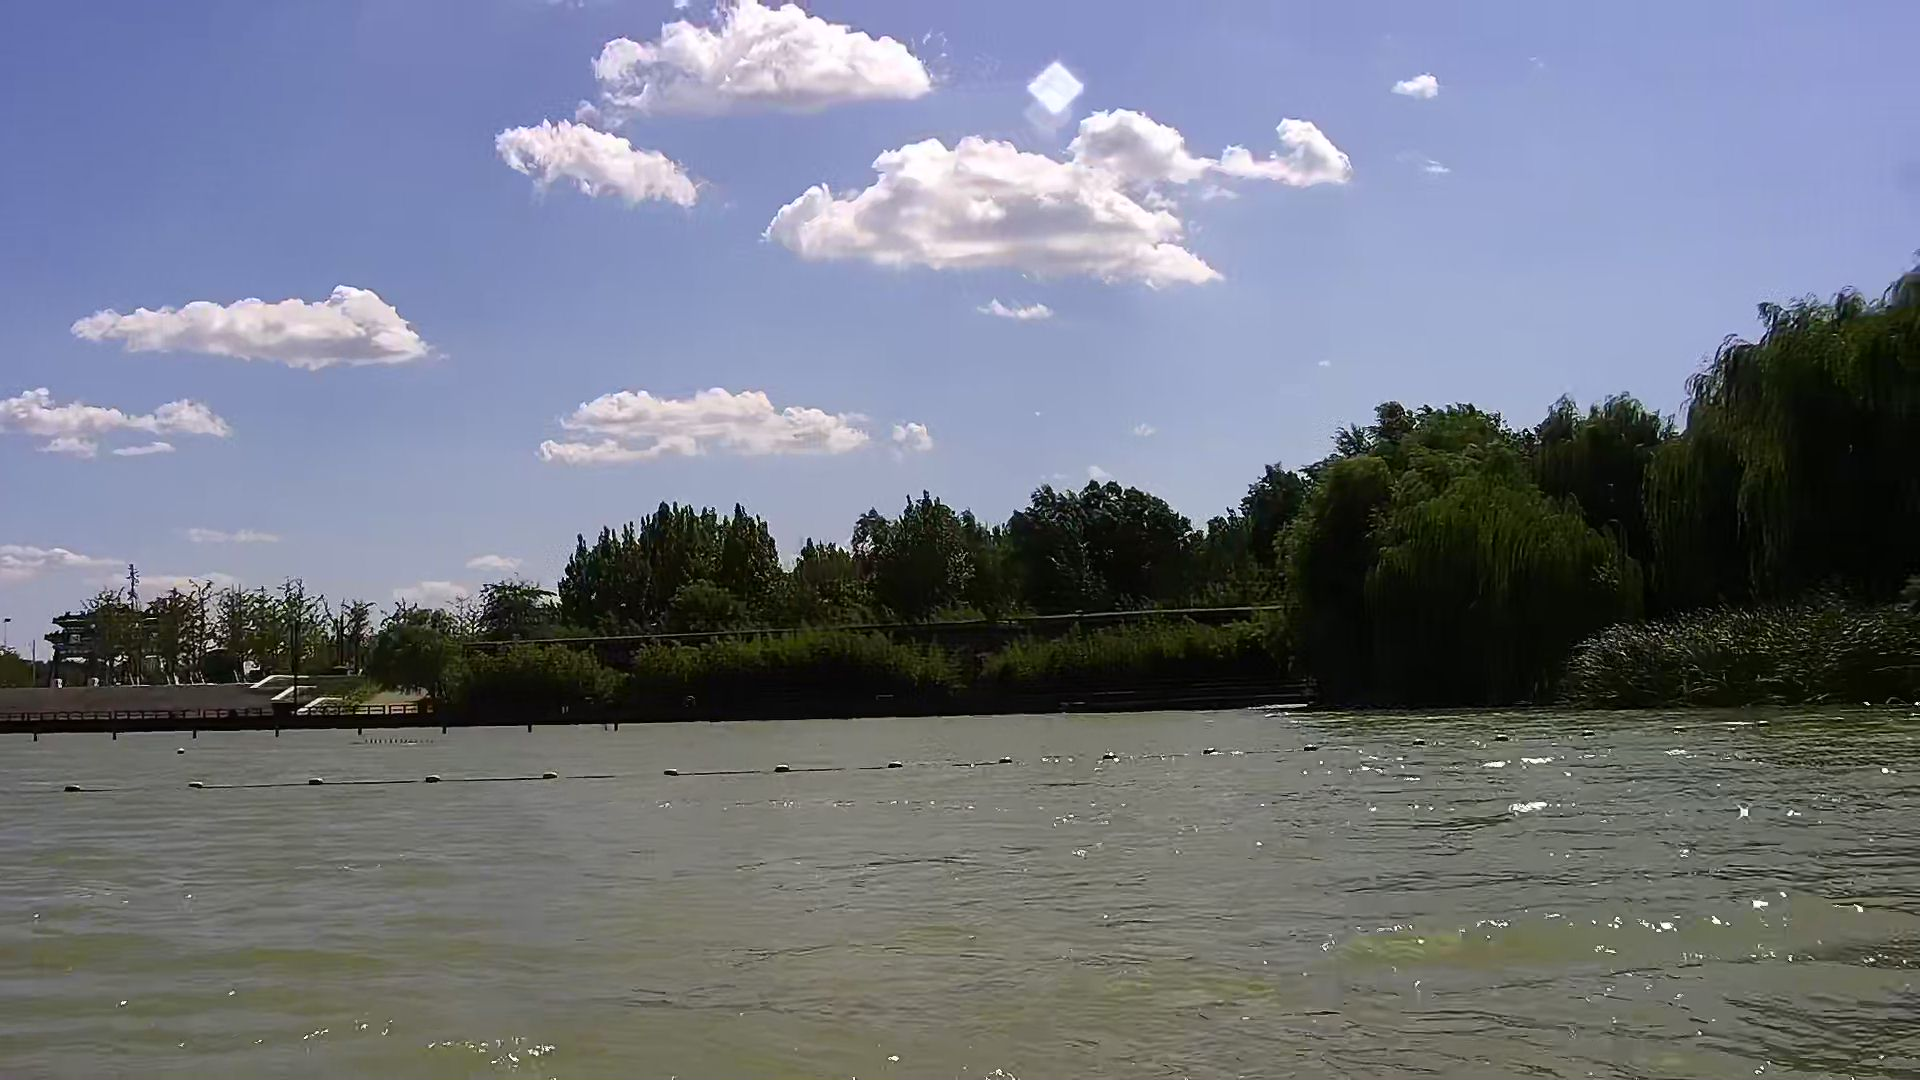ball: (414, 762, 450, 791), (537, 758, 564, 793), (655, 758, 684, 786), (990, 748, 1021, 774), (295, 769, 331, 791), (771, 760, 798, 785), (1302, 736, 1324, 765)
harbor: (1, 691, 429, 735)
